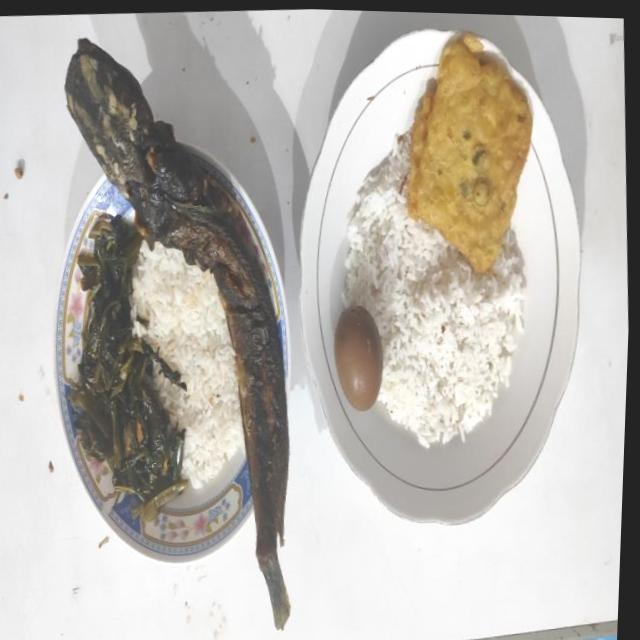nasi_putih: (342, 147, 525, 447), (130, 242, 243, 488)
tumis_kangkung: (66, 214, 188, 520)
